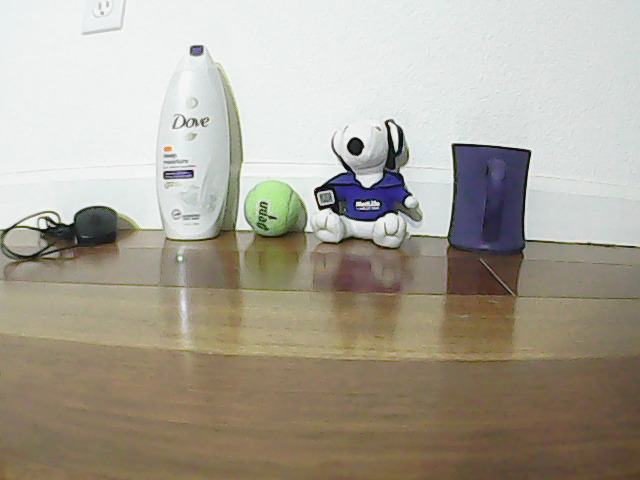ball: (243, 167, 300, 238)
mouse: (58, 204, 123, 251)
mug: (438, 126, 550, 237)
snoopy: (321, 119, 418, 253)
soap: (155, 27, 229, 236)
